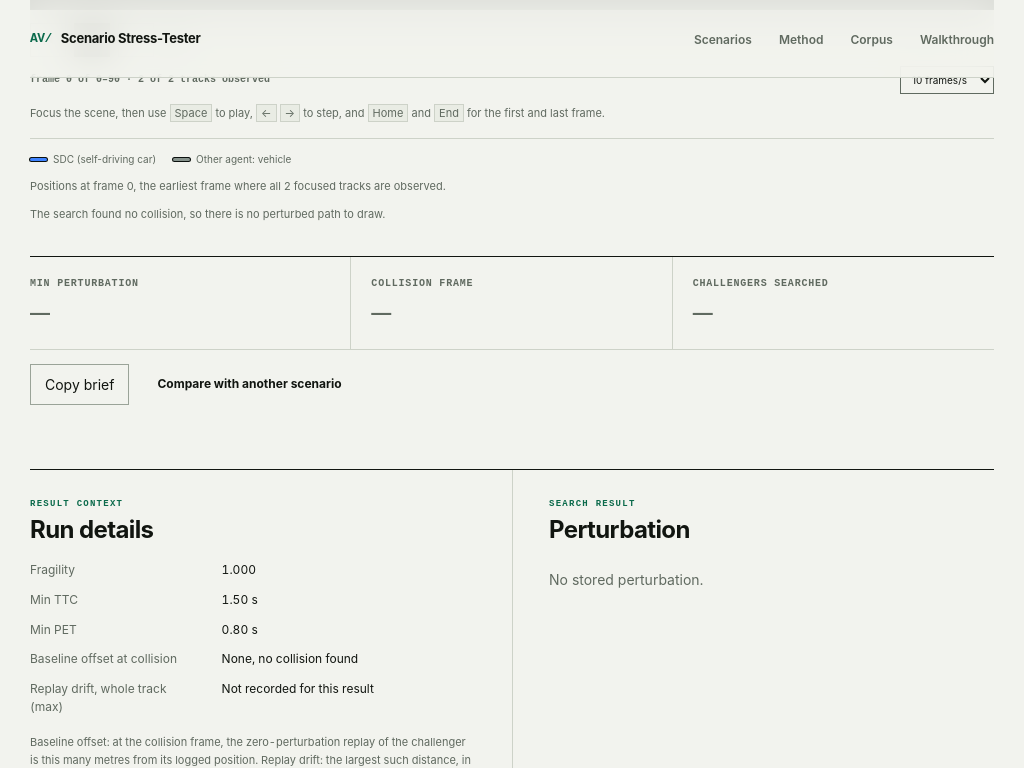
Test case: copying the brief › copies a scenario with no collision, without a collision frame or a perturbation
(page scrolled)
Expected: the text "frame 0 of 0–90 · 2 of 2 tracks observed" is shown, top-left (30, 72), bottom-right (270, 87)
What coordinates should you click on to do the following:
click the button "Copy brief"
I would click on:
 (80, 384)
Its box is top-left (30, 364), bottom-right (130, 405).
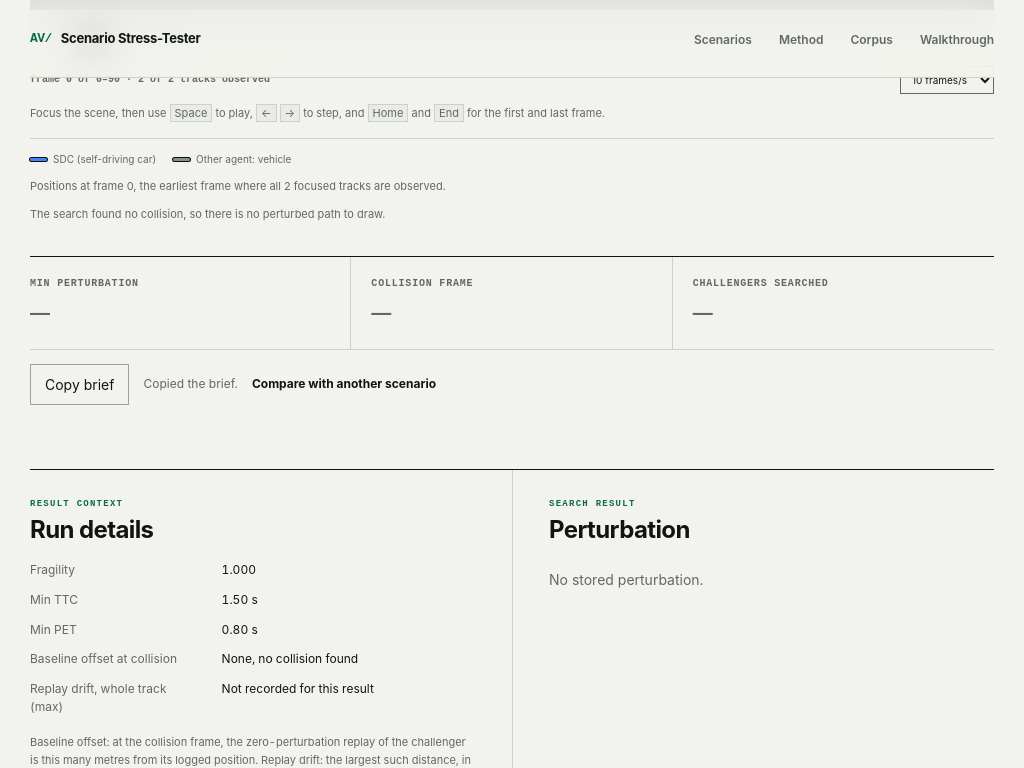
Expected: the text "Copied the brief." is shown, top-left (144, 375), bottom-right (238, 394)
